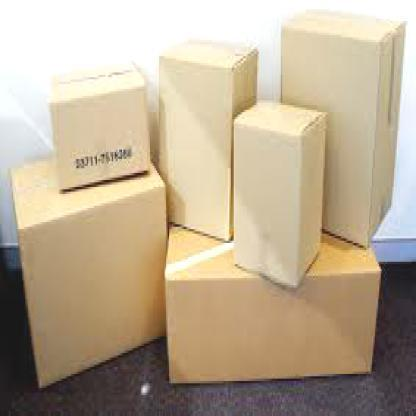box: (7, 157, 169, 386), (162, 229, 383, 395), (281, 7, 409, 250), (157, 33, 259, 251), (233, 91, 325, 299), (45, 61, 153, 197)
